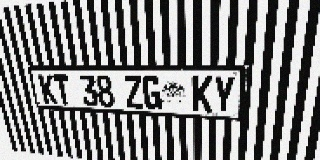3: (79, 75, 99, 106)
8: (95, 75, 115, 107)
G: (142, 75, 162, 110)
K: (192, 76, 213, 112), (38, 74, 58, 104)
T: (52, 75, 72, 105)
Y: (213, 76, 236, 113)
Z: (124, 75, 144, 109)
